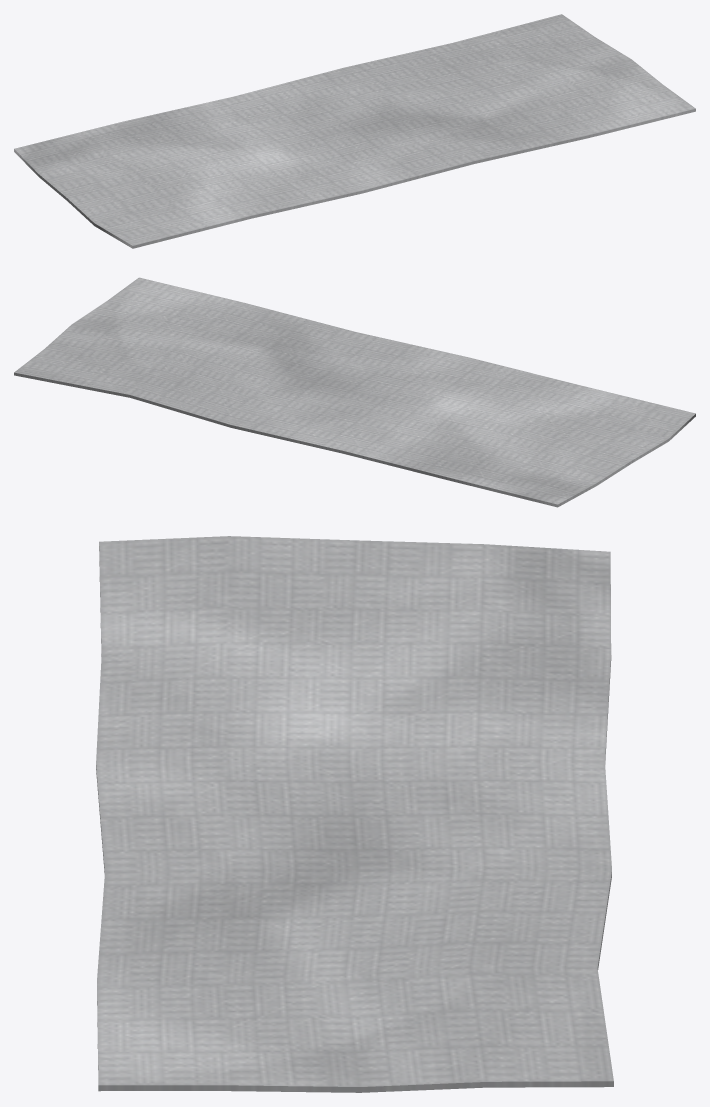
The model's file is MB_Beach_Towel_01.fbx.
3 views of the same model, one above another, from view 1: azimuth 30°, elevation 25°; view 2: azimuth 150°, elevation 25°; view 3: azimuth 270°, elevation 25° (orthographic). The views are drawn at different scales.
Parts seen in each view (by area): view 1: MB_Beach_Towel_01; view 2: MB_Beach_Towel_01; view 3: MB_Beach_Towel_01.
Part boxes in pixels (x1,y1,x2,y2): MB_Beach_Towel_01: (14, 14, 695, 248); MB_Beach_Towel_01: (14, 277, 695, 507); MB_Beach_Towel_01: (96, 536, 613, 1092).
Bounding box in the file's own units: 178 × 1.88 × 70.73.
